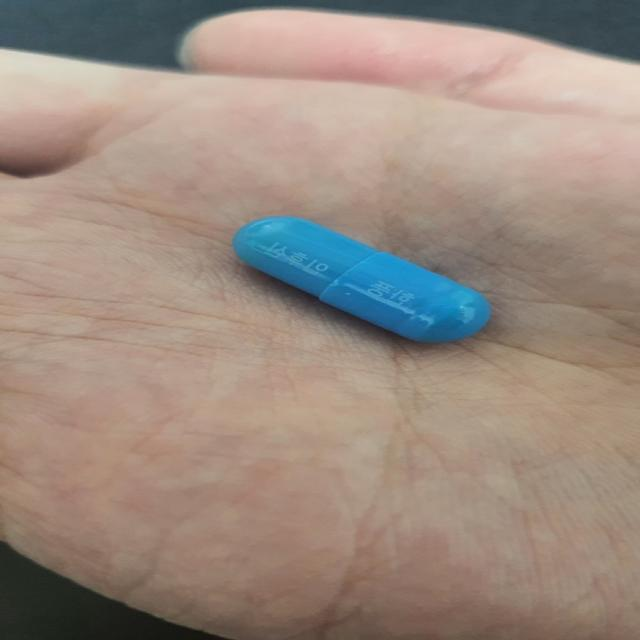pill: (226, 204, 494, 347)
